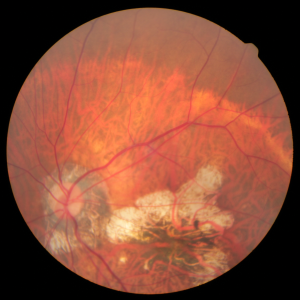retina_disease: (29, 130, 236, 227)
